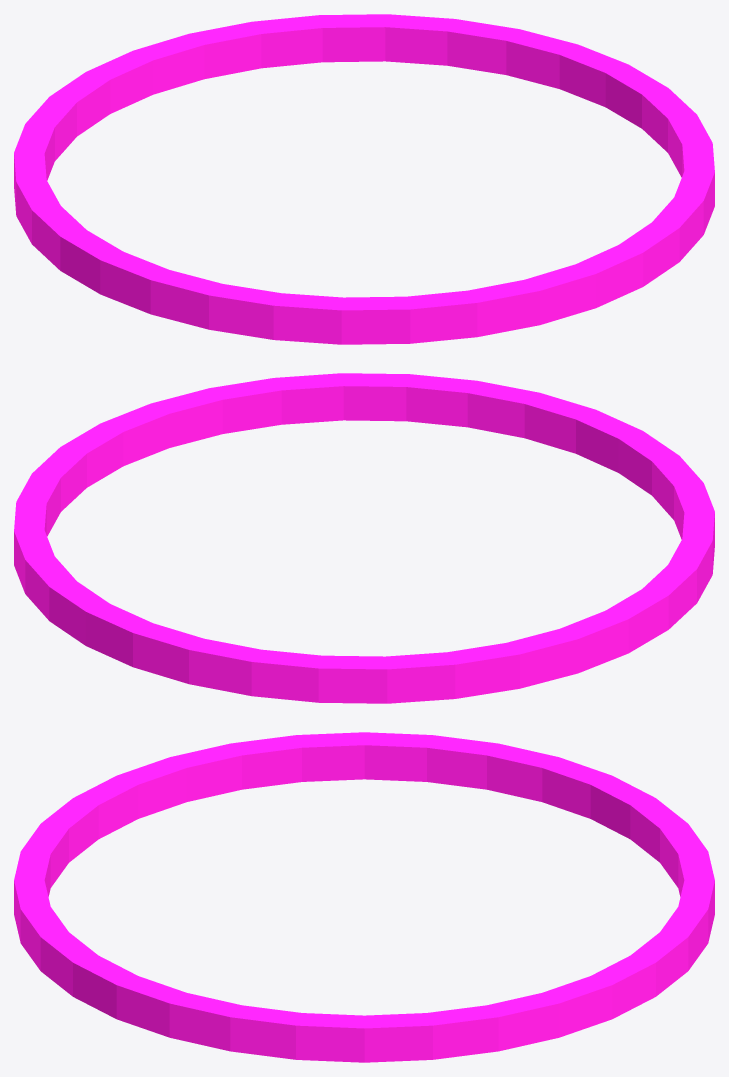
File: stageCircle.glb
The picture shows the model from 3 angles, top to bottom: view 1: azimuth 30°, elevation 25°; view 2: azimuth 150°, elevation 25°; view 3: azimuth 270°, elevation 25°; orthographic projection.
Parts seen in each view (by area): view 1: Spear; view 2: Spear; view 3: Spear.
Part boxes in pixels (box(x1,y1,x2,y2)): Spear: box(14, 14, 714, 344); Spear: box(14, 373, 714, 703); Spear: box(14, 732, 714, 1062).
Size of the model in its own units: 2.23 by 0.12 by 2.23.
